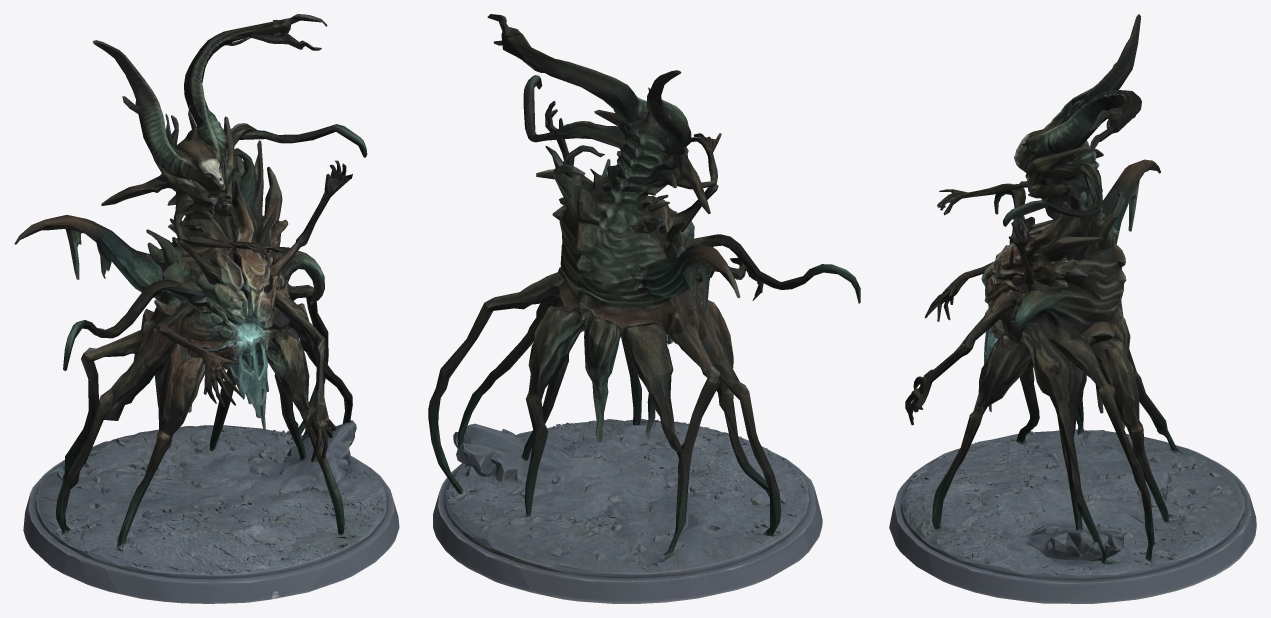
Rendered from abomination.glb.
The picture shows the model from 3 angles, left to right: view 1: azimuth 30°, elevation 25°; view 2: azimuth 150°, elevation 25°; view 3: azimuth 270°, elevation 25°; orthographic projection. The views are drawn at different scales.
Parts seen in each view (by area): view 1: output_unwrapped; view 2: output_unwrapped; view 3: output_unwrapped.
Part boxes in pixels (<box>): output_unwrapped: <box>14,14,399,603</box>; output_unwrapped: <box>428,14,860,603</box>; output_unwrapped: <box>889,14,1256,603</box>.
Bounding box in the file's own units: 1.45 × 1.9 × 1.34.
Materials: 1 (1 with a texture image).
